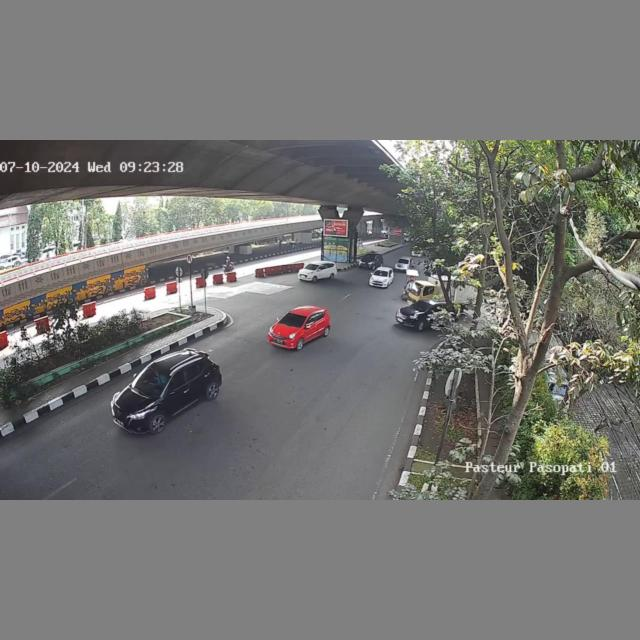windshield: (131, 367, 173, 396), (277, 312, 306, 329), (374, 269, 390, 277)
